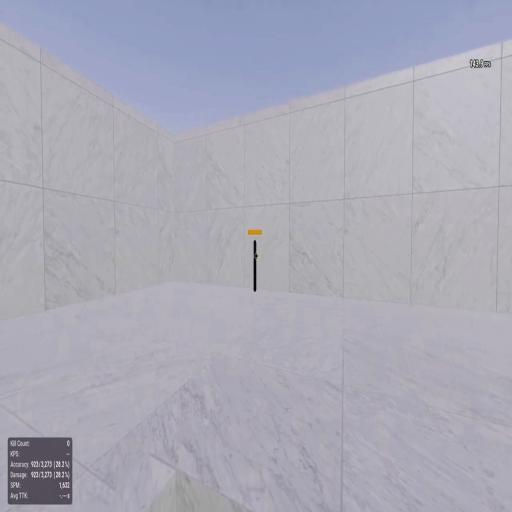Crosshair: (254, 252, 258, 260)
Target: (254, 240, 256, 292)
